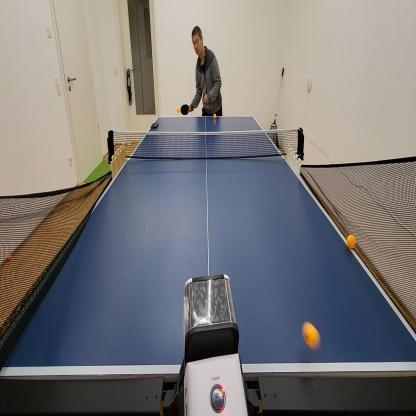Ball: (301, 320, 322, 351), (346, 232, 357, 250), (6, 251, 12, 262), (176, 106, 180, 114), (67, 201, 71, 209), (213, 113, 217, 120)
